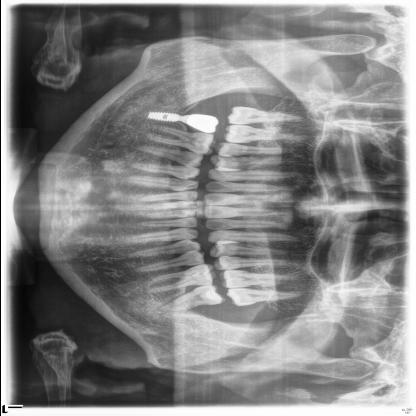Bicon: (147, 112, 190, 124)
